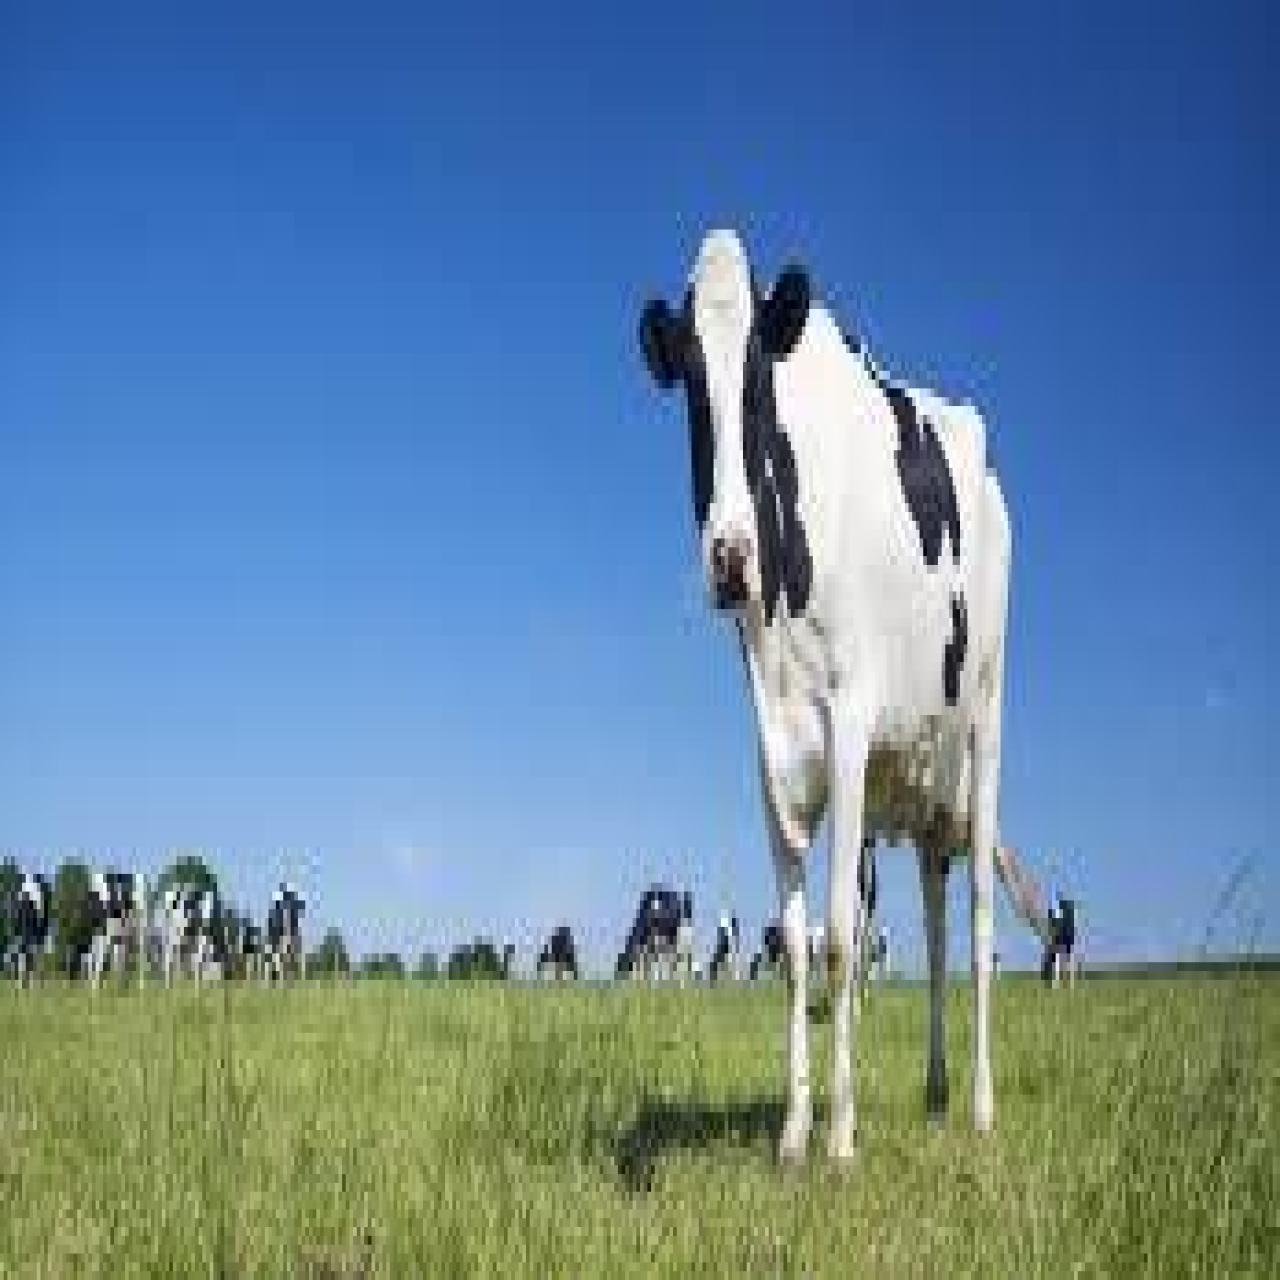cow: (638, 225, 1017, 1160), (66, 870, 147, 1002), (617, 883, 693, 988), (149, 878, 215, 985), (0, 873, 55, 998), (267, 878, 307, 993), (1041, 896, 1078, 1002), (537, 918, 581, 989), (708, 914, 741, 985), (750, 922, 787, 985), (237, 913, 263, 975), (805, 918, 828, 989), (864, 927, 890, 980)
